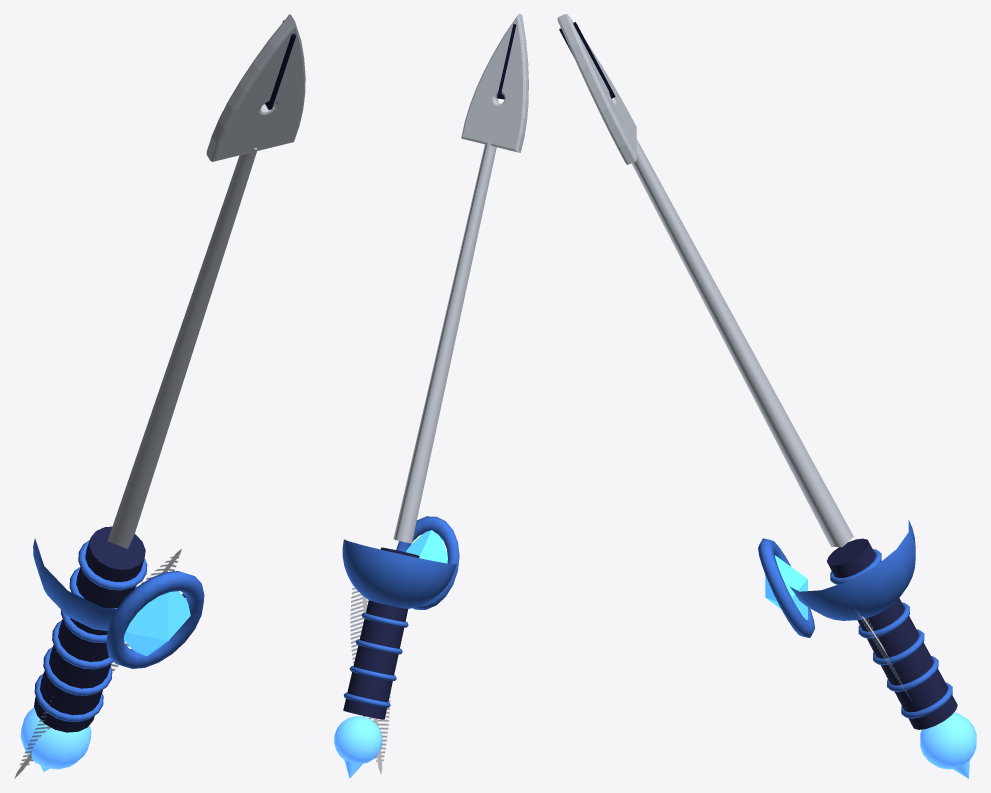
Rendered from hand_eqen1.glb.
The picture shows the model from 3 angles, left to right: view 1: azimuth 30°, elevation 25°; view 2: azimuth 150°, elevation 25°; view 3: azimuth 270°, elevation 25°; orthographic projection. The views are drawn at different scales.
Bounding box in the file's own units: 0.741 × 4.53 × 2.25.
7 materials, 1 textured.
